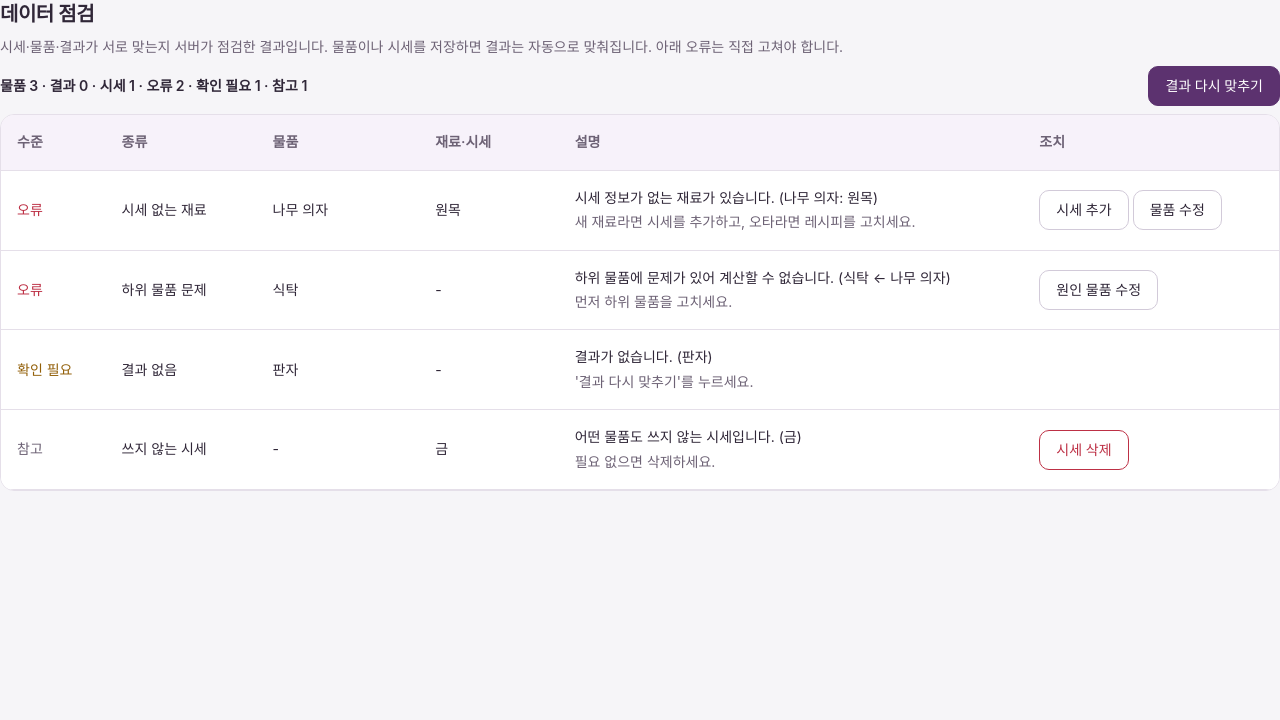
CatalogCheckPage › 시세 없는 재료는 그 자리에서 시세를 추가한다(id 없는 새 시세)
The image size is (1280, 720).
Expected: the text "시세 정보가 없는 재료가 있습니다. (나무 의자: 원목)" is shown, [575, 189, 878, 206]
Click the button "시세 추가": {"x": 1084, "y": 210} [1039, 190, 1129, 230]
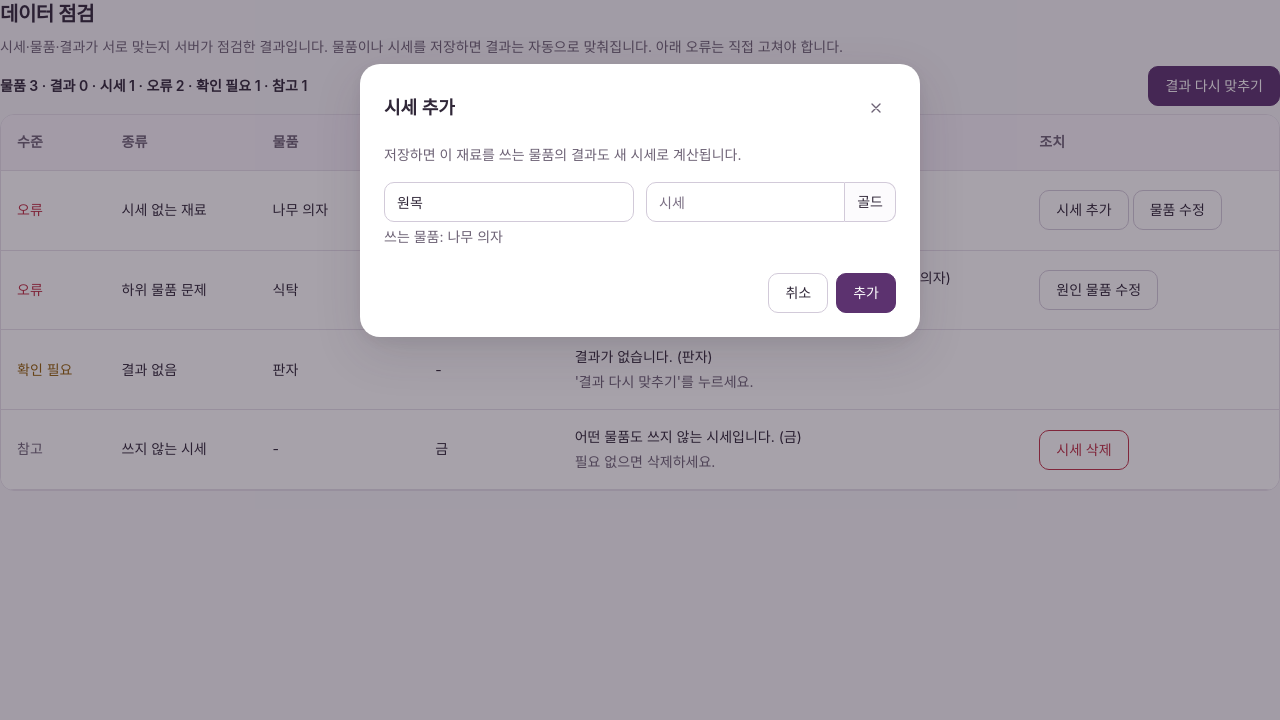
Expected: the field labelled "원목 이름" holds "원목", [397, 183, 621, 221]
Expected: the dialog "시세 추가" shows "쓰는 물품: 나무 의자", [360, 64, 920, 337]
In the number field labelled "원목 시세": {"x": 746, "y": 202} [659, 183, 832, 221], type "700"
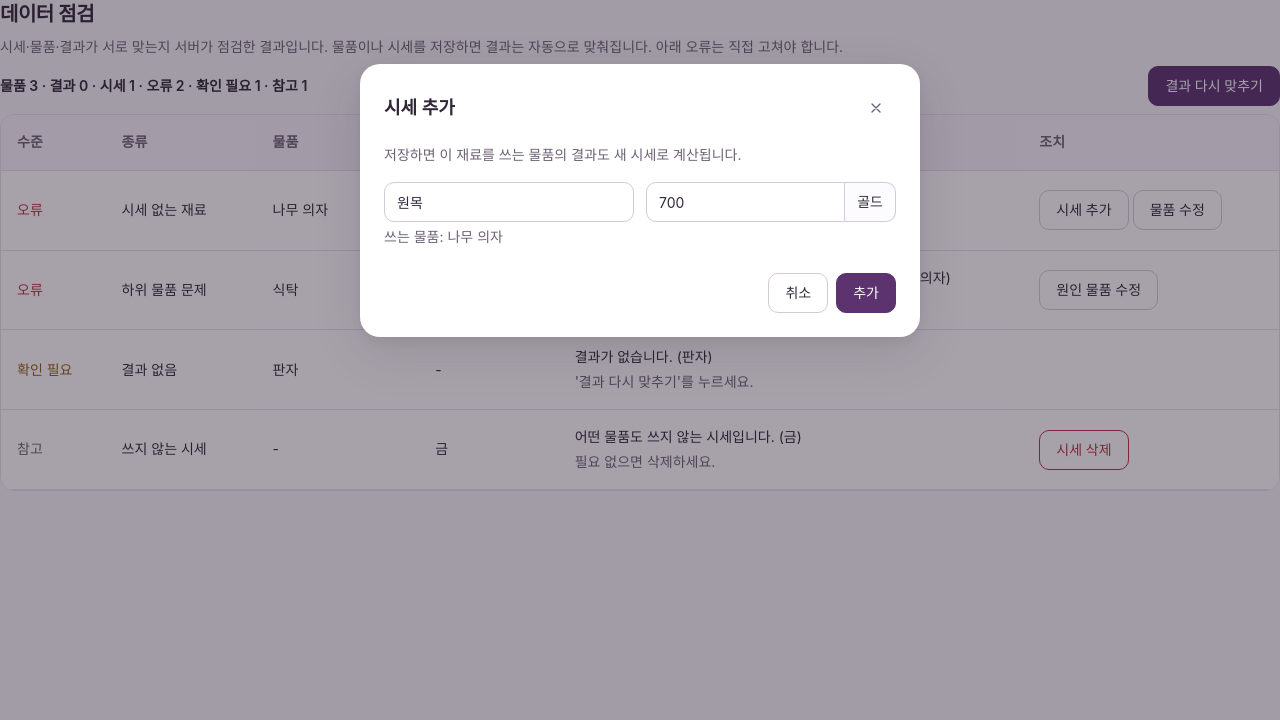
Click the button "추가": {"x": 866, "y": 293} [836, 273, 896, 313]
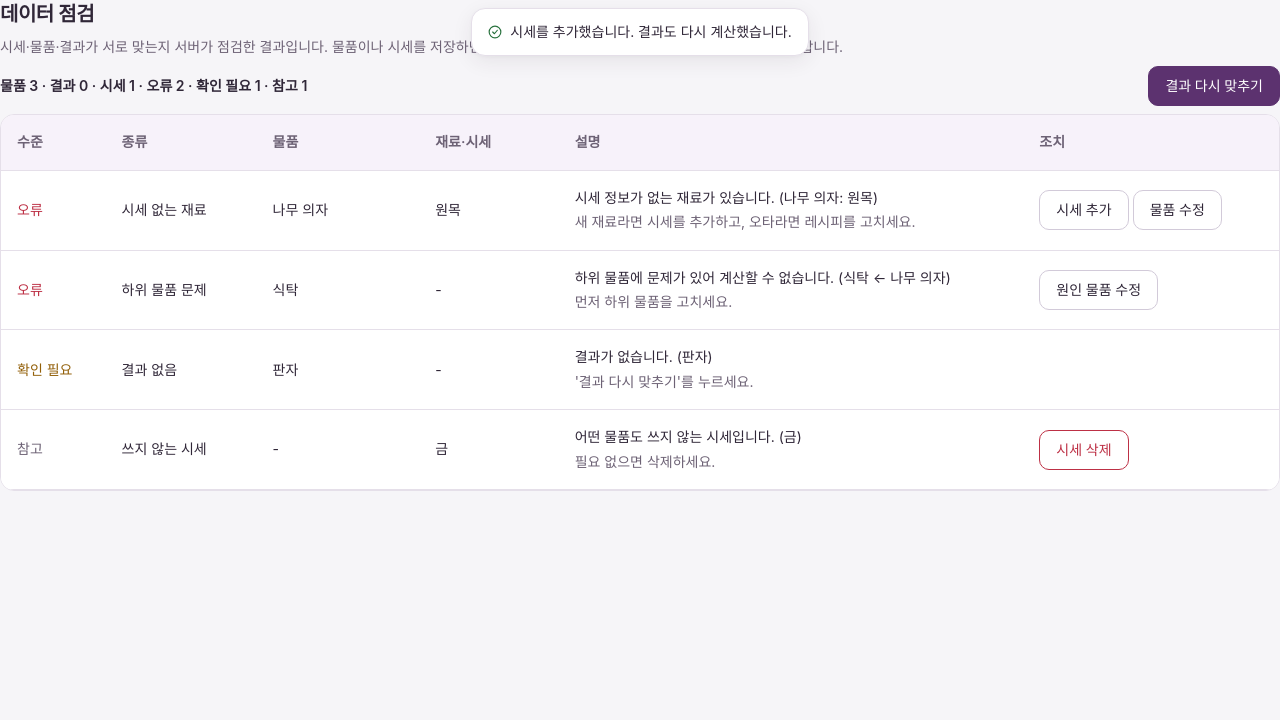
Expected: the text "시세를 추가했습니다. 결과도 다시 계산했습니다." is shown, [510, 21, 792, 43]
